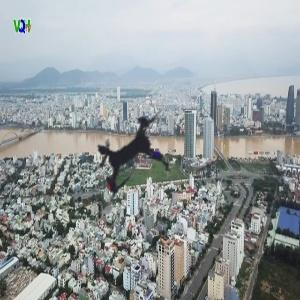drone: (44, 72, 219, 247)
